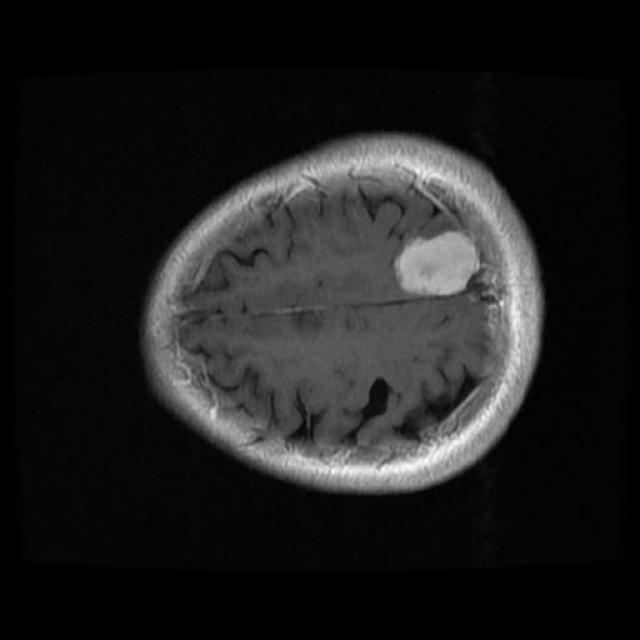Meningioma: (395, 231, 479, 295)
